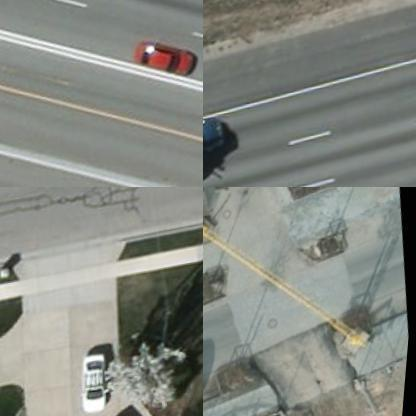car: (130, 34, 202, 93), (82, 346, 123, 415)
